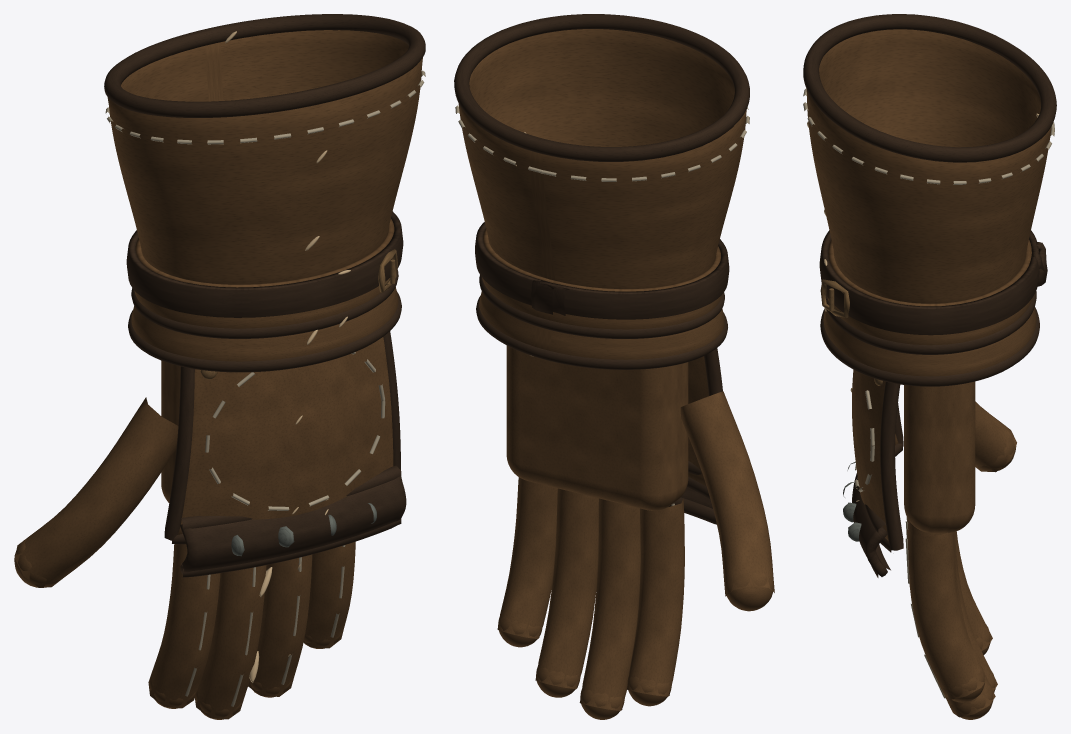
3 views of the same model, side by side, from view 1: azimuth 30°, elevation 25°; view 2: azimuth 150°, elevation 25°; view 3: azimuth 270°, elevation 25° (orthographic). The views are drawn at different scales.
Parts seen in each view (by area): view 1: tanned leather, oiled strap leather, waxed linen thread, weathered plate, aged alloy edge; view 2: tanned leather, oiled strap leather, waxed linen thread; view 3: tanned leather, oiled strap leather, waxed linen thread, aged alloy edge, weathered plate.
Boxes of the visible parts, bbox=[...] form: tanned leather: bbox=[14, 30, 422, 719]; oiled strap leather: bbox=[104, 14, 425, 577]; waxed linen thread: bbox=[105, 70, 425, 706]; weathered plate: bbox=[231, 503, 376, 556]; aged alloy edge: bbox=[200, 249, 397, 379]; tanned leather: bbox=[458, 29, 774, 719]; oiled strap leather: bbox=[454, 14, 749, 524]; waxed linen thread: bbox=[455, 105, 749, 505]; tanned leather: bbox=[806, 29, 1051, 719]; oiled strap leather: bbox=[803, 14, 1056, 577]; waxed linen thread: bbox=[803, 88, 1054, 698]; aged alloy edge: bbox=[820, 279, 882, 385]; weathered plate: bbox=[843, 461, 861, 541].
Bounding box in the file's own units: 0.1669 × 0.3032 × 0.107.
6 materials, 5 textured.
